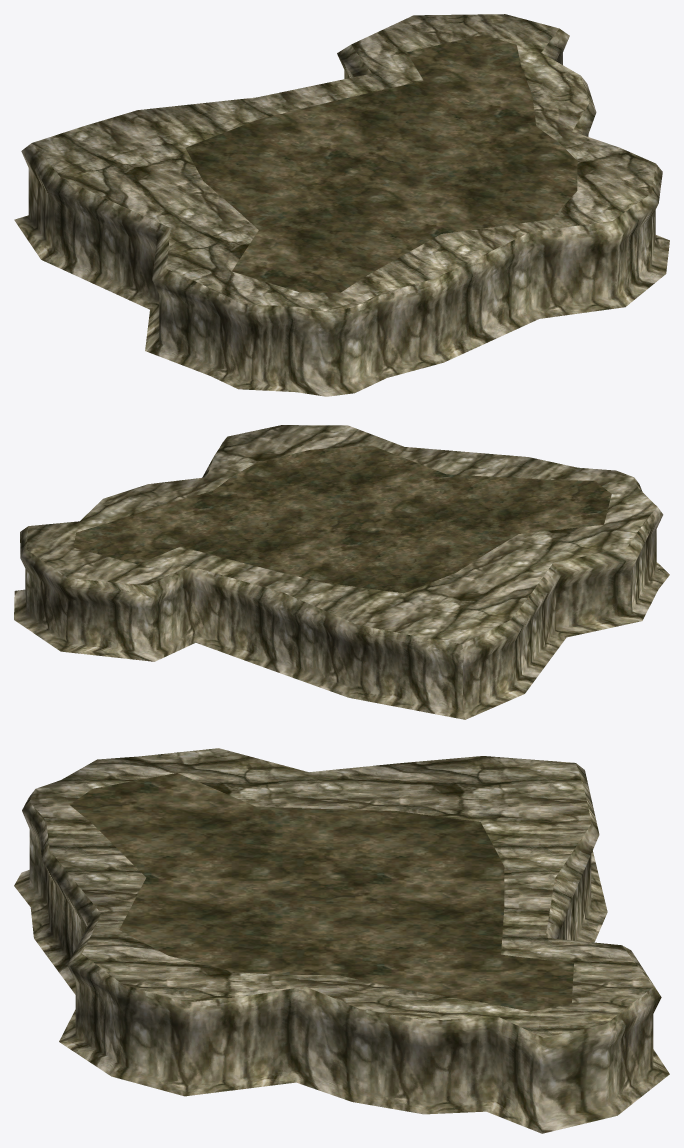
The model's file is CB_NEWPLAYSURFACE_CB_PLAYSURFACE92.fbx.
The picture shows the model from 3 angles, top to bottom: view 1: azimuth 30°, elevation 25°; view 2: azimuth 150°, elevation 25°; view 3: azimuth 270°, elevation 25°; orthographic projection. The views are drawn at different scales.
Parts seen in each view (by area): view 1: CB_NEWPLAYSURFACE_CB_PLAYSURFACE92; view 2: CB_NEWPLAYSURFACE_CB_PLAYSURFACE92; view 3: CB_NEWPLAYSURFACE_CB_PLAYSURFACE92.
Boxes of the visible parts, x1,y1,x2,y2 form: CB_NEWPLAYSURFACE_CB_PLAYSURFACE92: [14, 14, 669, 396]; CB_NEWPLAYSURFACE_CB_PLAYSURFACE92: [14, 425, 669, 719]; CB_NEWPLAYSURFACE_CB_PLAYSURFACE92: [14, 748, 669, 1133].
Bounding box in the file's own units: 260077 × 34142 × 233348.
3 materials, 3 textured.
